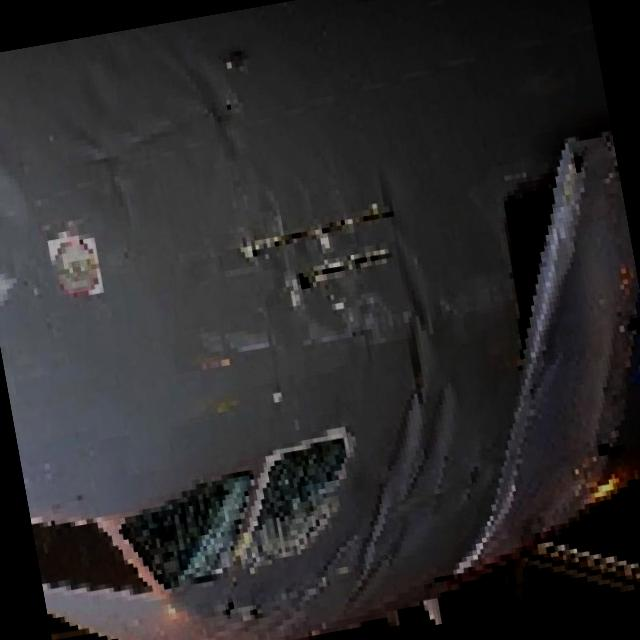crack: (229, 193, 411, 313)
